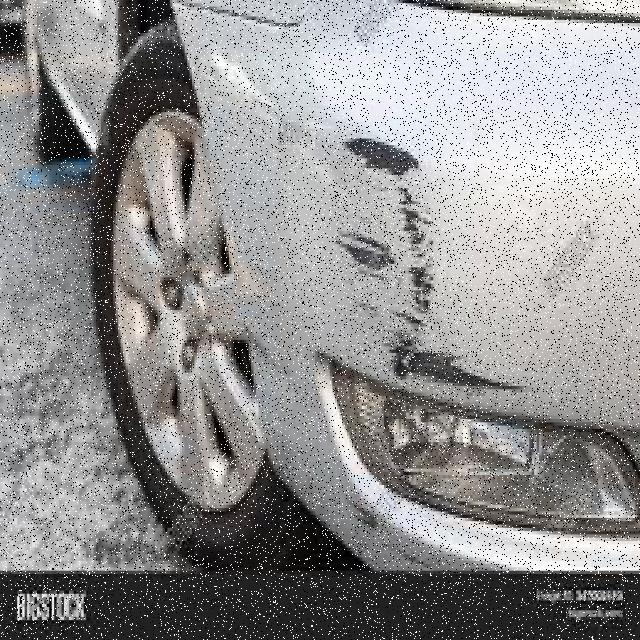front-bumper-dent: (170, 13, 638, 584)
